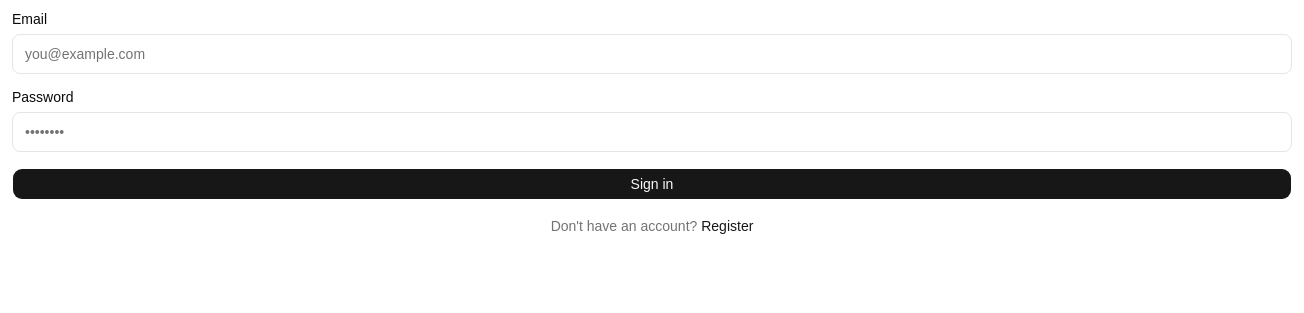
Test: LoginForm › shows INVALID_CREDENTIALS error inline
This screenshot has width=1304, height=313.
Type "test@test.com" into the field labelled "Email" at [652, 54], box [12, 34, 1292, 74]
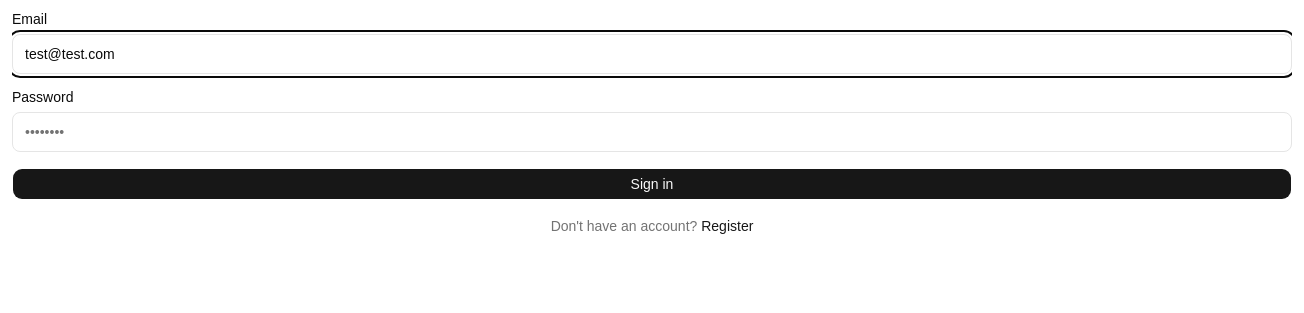
Type "WrongPass1!" into the password field labelled "Password" at [652, 132], box [12, 112, 1292, 152]
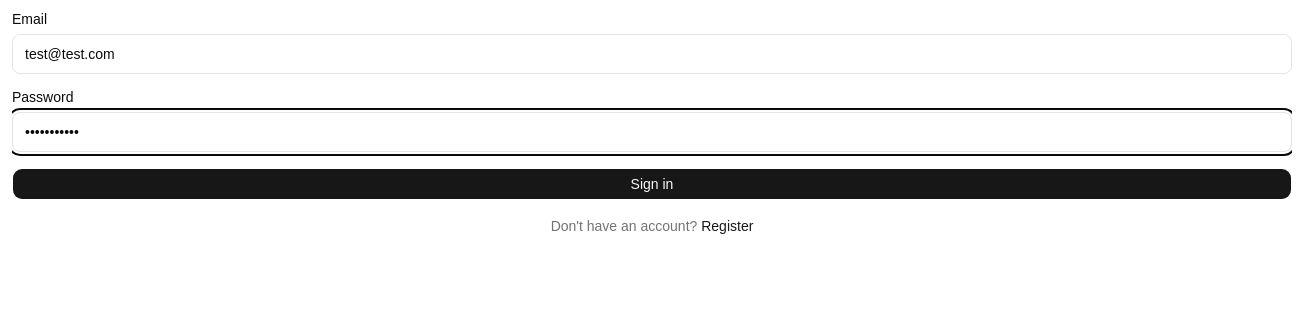
Click the button "Sign in" at [652, 184], box [12, 168, 1292, 200]
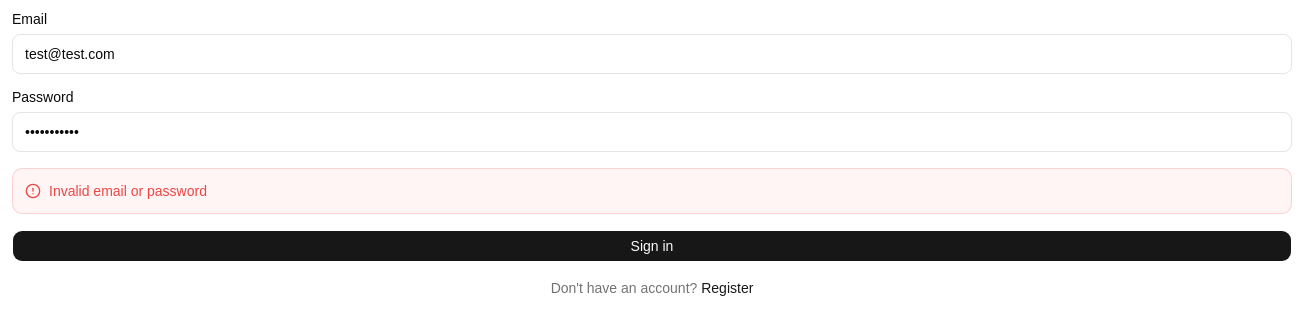
Now the text "Invalid email or password" is shown, box [12, 168, 1292, 214]
